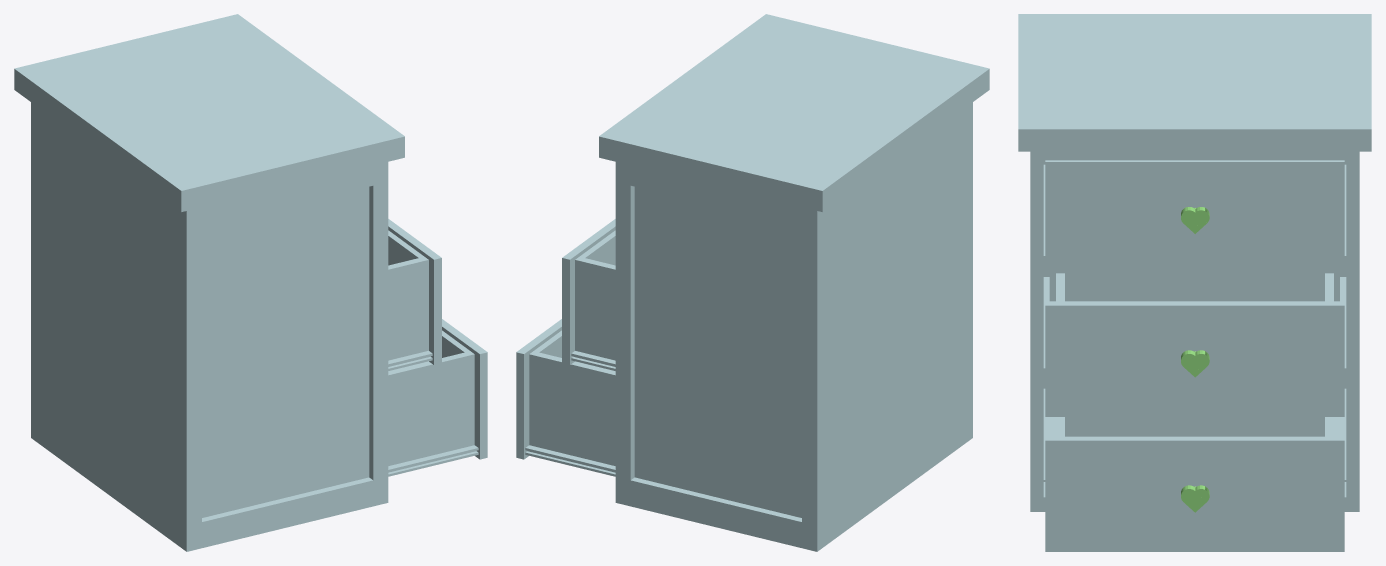
The model's file is Chiffonier_pink.fbx.
3 views of the same model, side by side, from view 1: azimuth 30°, elevation 25°; view 2: azimuth 150°, elevation 25°; view 3: azimuth 270°, elevation 25° (orthographic). The views are drawn at different scales.
Parts seen in each view (by area): view 1: 큐브; view 2: 큐브; view 3: 큐브.
Boxes of the visible parts, bbox=[...] form: 큐브: bbox=[14, 14, 487, 551]; 큐브: bbox=[516, 14, 989, 551]; 큐브: bbox=[1018, 14, 1371, 551].
Bounding box in the file's own units: 8.48 × 8.88 × 7.32.
